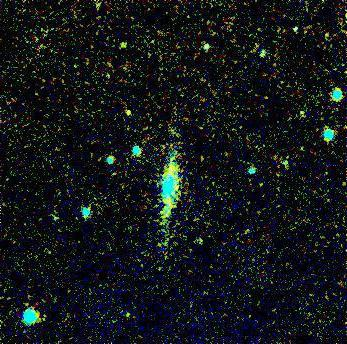star: (115, 99, 145, 129)
